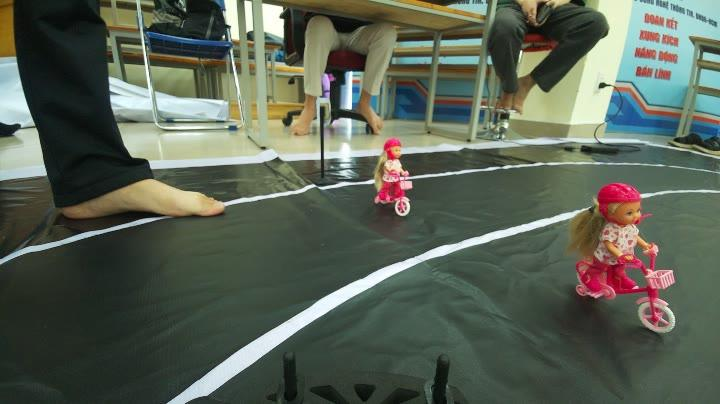pedestrian: (570, 180, 681, 328), (370, 138, 425, 217)
